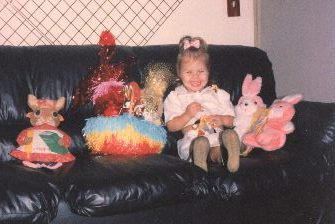person: (163, 35, 242, 175)
